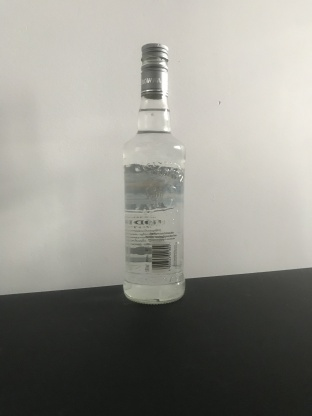nakretka: (139, 41, 169, 100)
